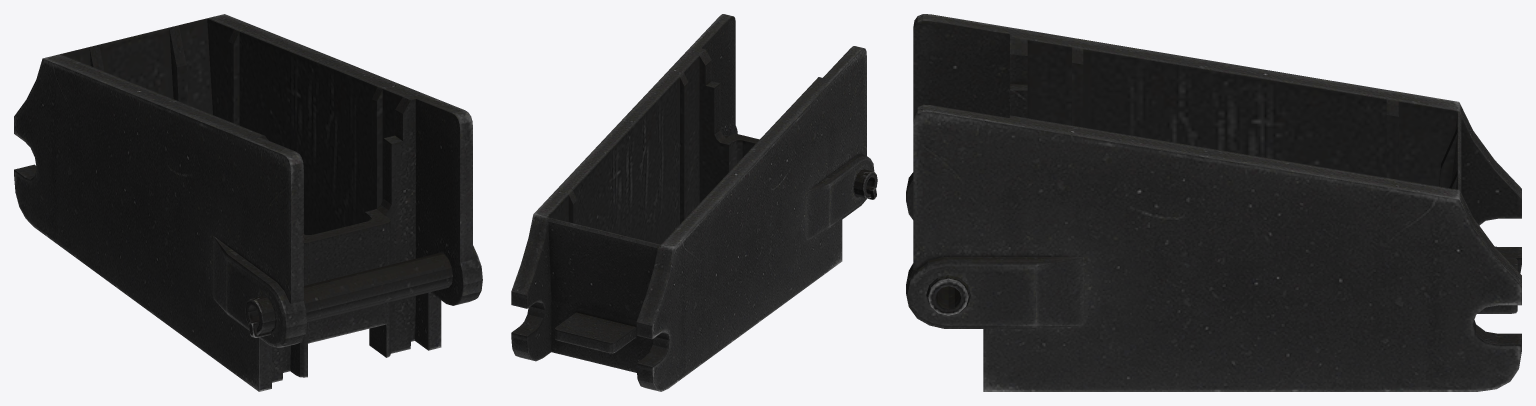
3 renders of one model, left to right at view 1: azimuth 30°, elevation 25°; view 2: azimuth 150°, elevation 25°; view 3: azimuth 270°, elevation 25°, orthographic. The views are drawn at different scales.
Visible parts, largest first — view 1: TW_622f02437762f55aaa68ac85_PZ_Import; view 2: TW_622f02437762f55aaa68ac85_PZ_Import; view 3: TW_622f02437762f55aaa68ac85_PZ_Import.
Boxes of the visible parts, box(x1,y1,x2,y2) form: TW_622f02437762f55aaa68ac85_PZ_Import: box(14, 14, 482, 391); TW_622f02437762f55aaa68ac85_PZ_Import: box(511, 14, 877, 391); TW_622f02437762f55aaa68ac85_PZ_Import: box(906, 14, 1521, 391).
Bounding box in the file's own units: 0.0266 × 0.0587 × 0.0303.
1 material, 1 textured.
